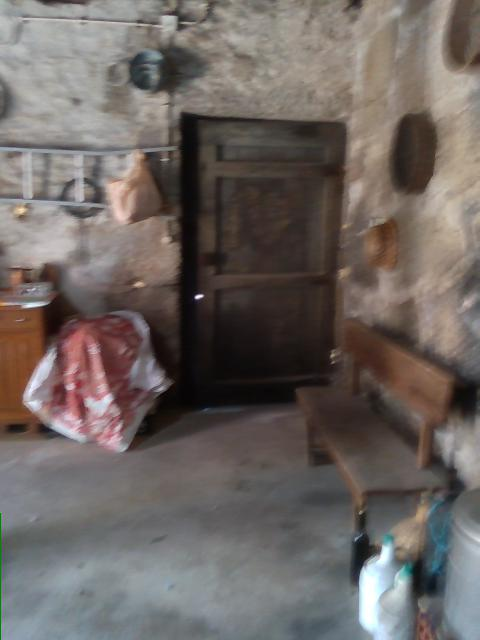door: (176, 111, 346, 413)
